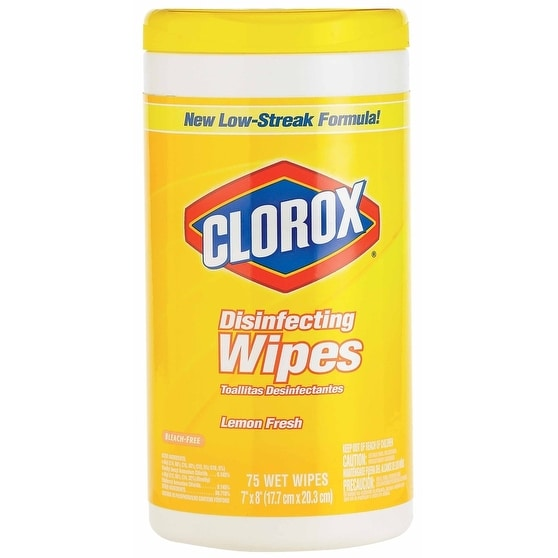Wipes: (137, 5, 420, 554)
